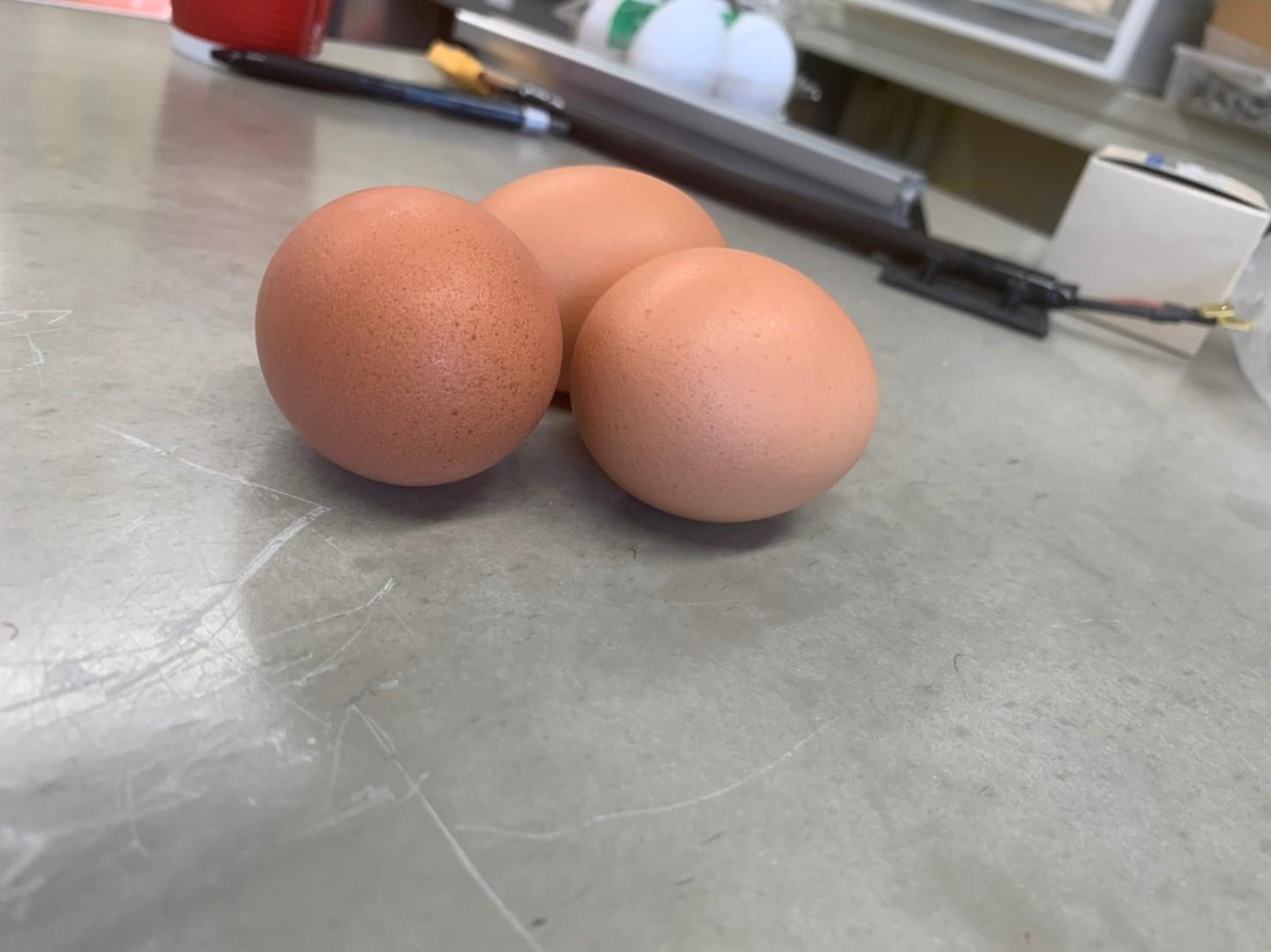egg: (250, 182, 562, 491), (570, 246, 881, 525), (461, 160, 735, 362)
